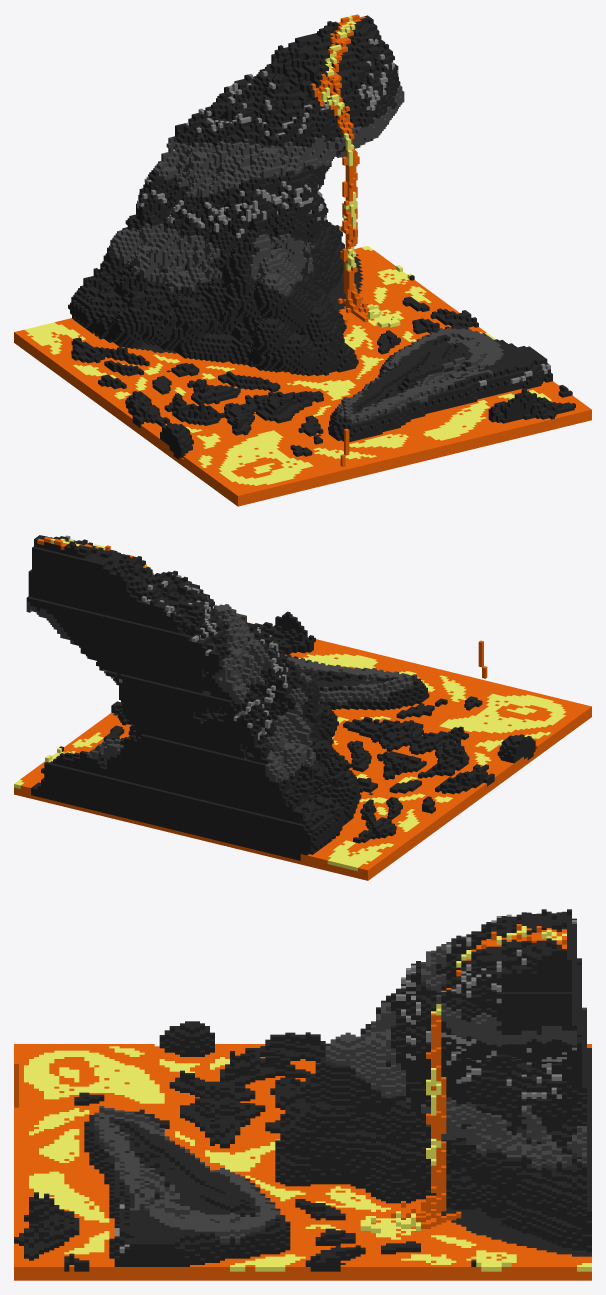
Rendered from Lava_stuff-36.obj.
The picture shows the model from 3 angles, top to bottom: view 1: azimuth 30°, elevation 25°; view 2: azimuth 150°, elevation 25°; view 3: azimuth 270°, elevation 25°; orthographic projection. The views are drawn at different scales.
Size of the model in its own units: 21 by 14.4 by 23.
Materials: 1 (1 with a texture image).
